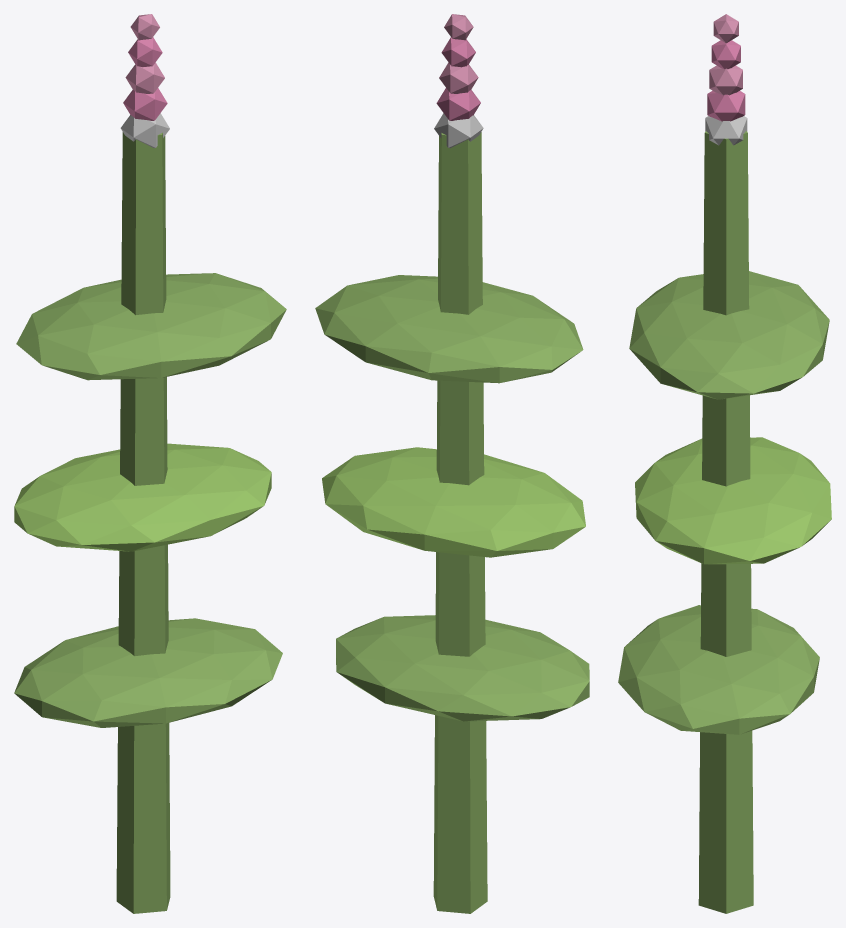
File: peperomia-pellucida.glb
3 views of the same model, side by side, from view 1: azimuth 30°, elevation 25°; view 2: azimuth 150°, elevation 25°; view 3: azimuth 270°, elevation 25° (orthographic).
Visible parts, largest first — view 1: stem, leaf0, leaf2, leaf1, head, bud1, bud2, bud3, bud4; view 2: stem, leaf1, leaf2, leaf0, head, bud1, bud2, bud3; view 3: stem, leaf2, leaf1, leaf0, bud1, head, bud2, bud3, bud4.
Boxes of the visible parts, x1,y1,x2,y2 form: stem: [116, 132, 170, 913]; leaf0: [14, 618, 282, 727]; leaf2: [16, 273, 286, 380]; leaf1: [14, 443, 271, 551]; head: [120, 113, 169, 147]; bud1: [123, 88, 167, 120]; bud2: [125, 62, 164, 93]; bud3: [128, 37, 162, 67]; bud4: [130, 14, 159, 40]; stem: [433, 132, 487, 913]; leaf1: [322, 447, 585, 557]; leaf2: [315, 275, 583, 383]; leaf0: [336, 615, 589, 721]; head: [434, 113, 483, 148]; bud1: [436, 88, 480, 120]; bud2: [439, 62, 478, 93]; bud3: [441, 37, 475, 67]; stem: [698, 131, 753, 913]; leaf2: [629, 271, 829, 399]; leaf1: [635, 437, 831, 564]; leaf0: [618, 605, 819, 734]; bud1: [707, 90, 745, 121]; head: [705, 116, 747, 145]; bud2: [709, 65, 742, 95]; bud3: [711, 40, 740, 69]; bud4: [713, 14, 738, 43].
Bounding box in the file's own units: 0.1408 × 0.4729 × 0.1036.
